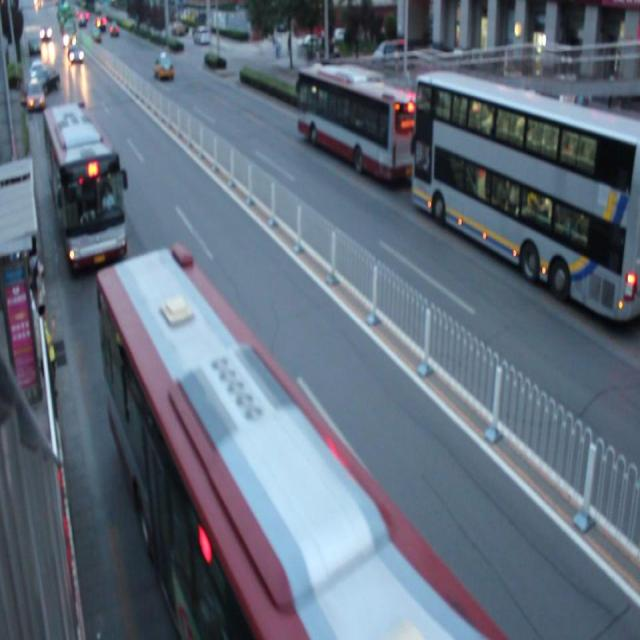car: (26, 79, 47, 109), (153, 54, 174, 79)
van: (98, 253, 494, 640), (416, 74, 640, 321), (297, 64, 420, 181), (43, 102, 126, 268)
